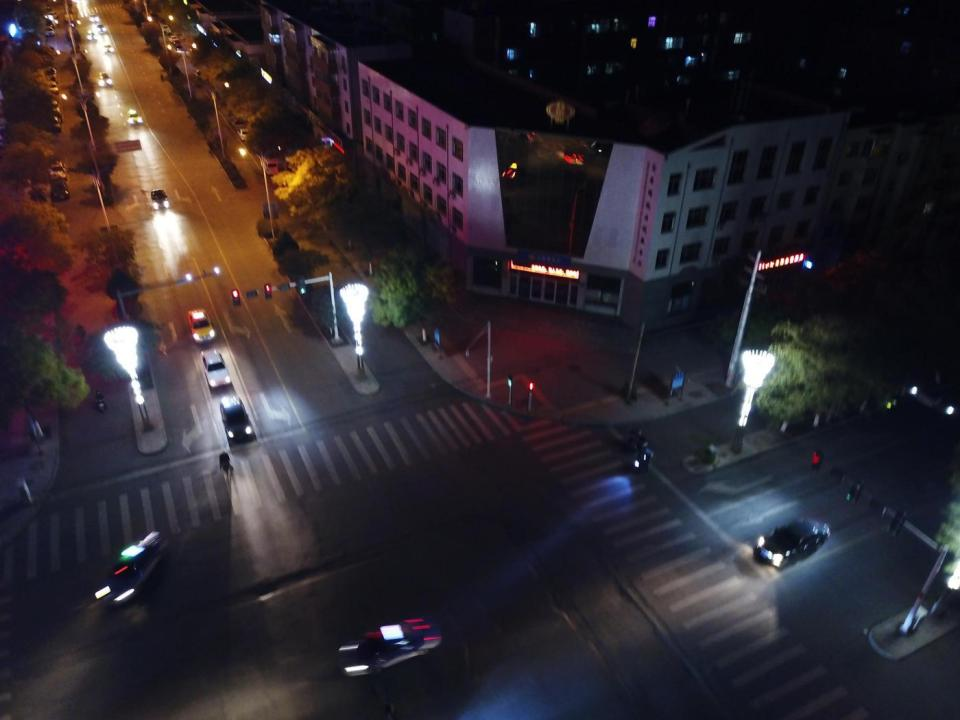car: (338, 615, 442, 676), (93, 530, 172, 604), (758, 516, 832, 568), (220, 395, 256, 442), (200, 348, 232, 390), (188, 308, 216, 344), (50, 179, 69, 201), (150, 189, 169, 209), (48, 160, 66, 178), (127, 109, 142, 125), (99, 72, 112, 87), (230, 114, 245, 127), (42, 46, 59, 56), (48, 118, 60, 131), (47, 80, 58, 94), (238, 128, 250, 140), (50, 110, 62, 121), (196, 68, 207, 79), (39, 66, 55, 73), (104, 44, 115, 53), (44, 12, 57, 19), (161, 24, 170, 34), (46, 26, 54, 36), (90, 14, 99, 22), (97, 25, 106, 33), (88, 31, 96, 40), (168, 35, 178, 42), (47, 20, 58, 26), (50, 100, 58, 108), (176, 44, 183, 51)
van: (261, 155, 278, 174)
